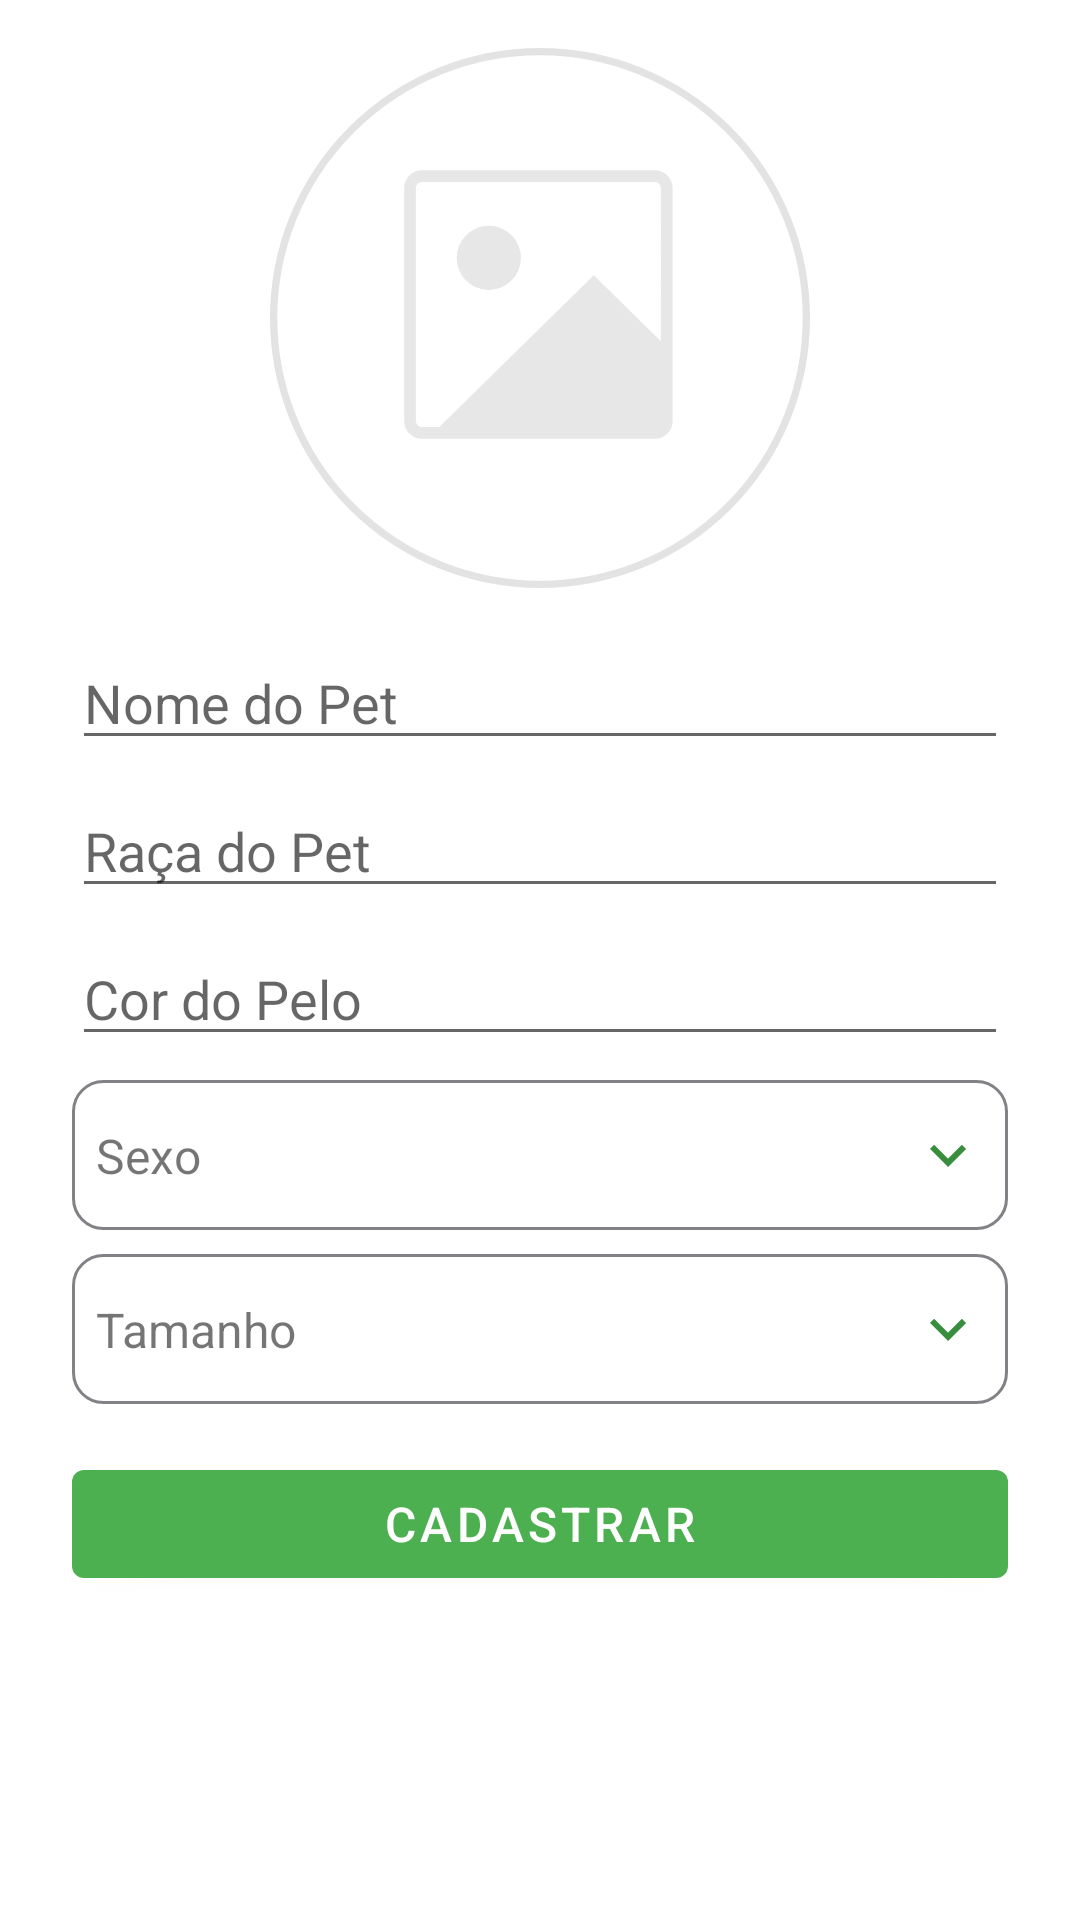

Where icons sit on this 1080w x 1920h app screen, as Rect(x1, y1, x2, y2):
keyboard arrow down: Rect(930, 1145, 966, 1167), Rect(930, 1319, 966, 1341)
